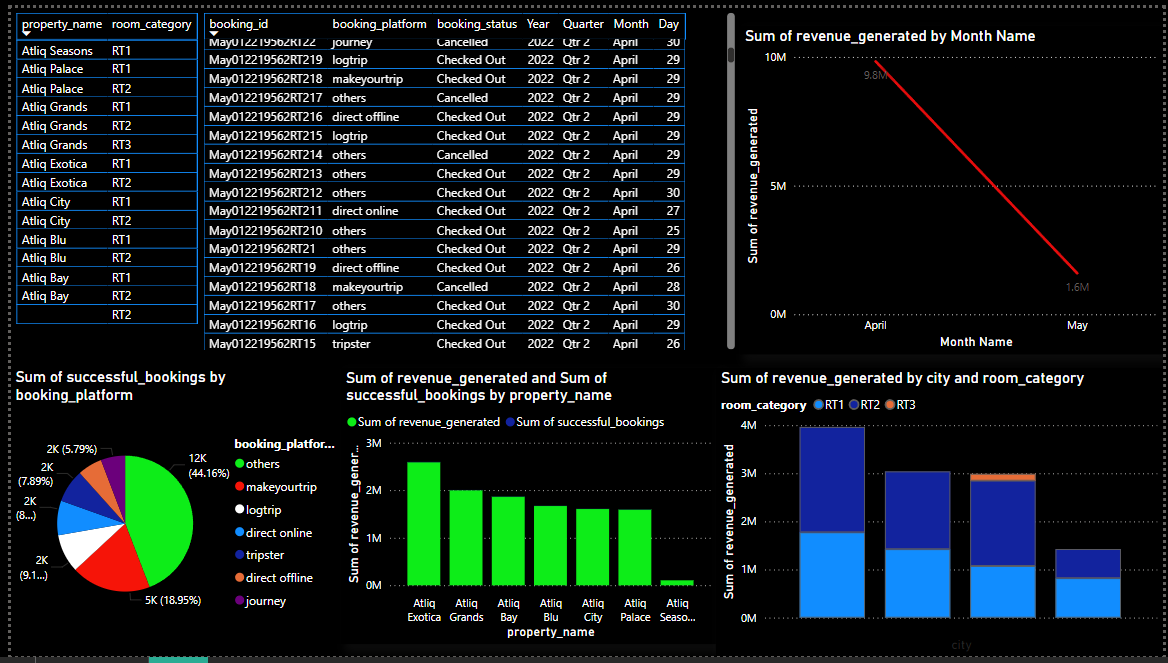

What the dashboard file says about the page in this screenshot:
{"tool":"powerbi","page":{"name":"Page 1","canvas":[1280,720],"ordinal":0},"visuals":[{"type":"columnChart","fields":{"Category":["Fact_bookings.property_name"],"Y":["Sum(Fact_bookings.revenue_generated)","Sum(Fact_bookings.successful_bookings)"]},"box":[366.1,399.2,417.4,306.4],"z":0},{"type":"pieChart","fields":{"Category":["Fact_bookings.booking_platform"],"Y":["Sum(Fact_bookings.successful_bookings)"]},"box":[0,399.2,366.1,306.4],"z":1000},{"type":"lineChart","fields":{"Category":["Fact_bookings.Month Name"],"Y":["Sum(Fact_bookings.revenue_generated)"]},"box":[810,19.9,470.4,364.4],"z":2000},{"type":"actionButton","box":[0,0,100,40],"z":3000},{"type":"columnChart","fields":{"Category":["Fact_bookings.city"],"Y":["Sum(Fact_bookings.revenue_generated)"],"Series":["Fact_bookings.room_category"]},"box":[783.5,399.2,496.9,321.4],"z":4000},{"type":"tableEx","fields":{"Values":["Fact_bookings.property_name","Fact_bookings.room_category"]},"box":[0,0,240.2,359.5],"z":5000},{"type":"tableEx","fields":{"Values":["Fact_bookings.booking_id","Fact_bookings.booking_platform","Fact_bookings.booking_status","Fact_bookings.booking_date.Variation.Date Hierarchy.Year","Fact_bookings.booking_date.Variation.Date Hierarchy.Quarter","Fact_bookings.booking_date.Variation.Date Hierarchy.Month","Fact_bookings.booking_date.Variation.Date Hierarchy.Day"]},"box":[208.7,0,601.3,384.3],"z":6000}]}

Visuals, with their boxes in screenshot pixels (x1, y1, x2, y2), scaled from the page's 1280x720 canvas onto the 1168x663 screenshot:
columnChart - Fact_bookings.property_name x Sum(Fact_bookings.revenue_generated): bbox(334, 368, 715, 650)
pieChart - Fact_bookings.booking_platform x Sum(Fact_bookings.successful_bookings): bbox(0, 368, 334, 650)
lineChart - Fact_bookings.Month Name x Sum(Fact_bookings.revenue_generated): bbox(739, 18, 1167, 354)
actionButton: bbox(0, 0, 91, 37)
columnChart - Fact_bookings.city x Sum(Fact_bookings.revenue_generated): bbox(715, 368, 1167, 662)
tableEx - Fact_bookings.property_name x Fact_bookings.room_category: bbox(0, 0, 219, 331)
tableEx - Fact_bookings.booking_id x Fact_bookings.booking_platform: bbox(190, 0, 739, 354)
